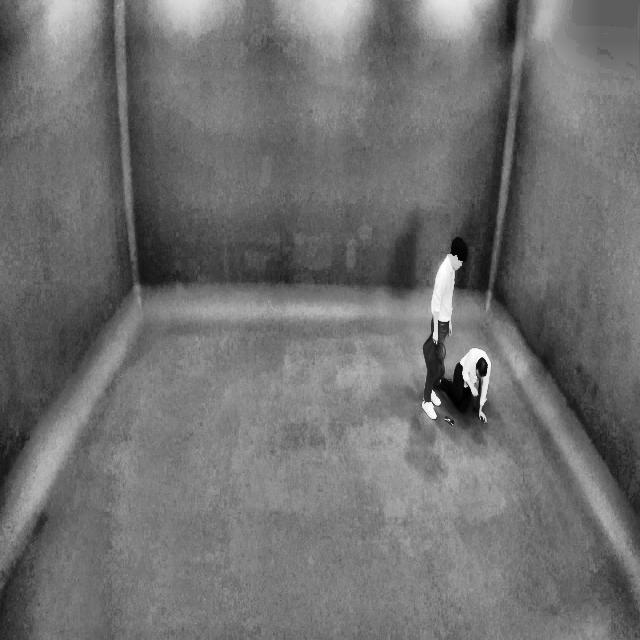assult: (422, 227, 498, 432)
